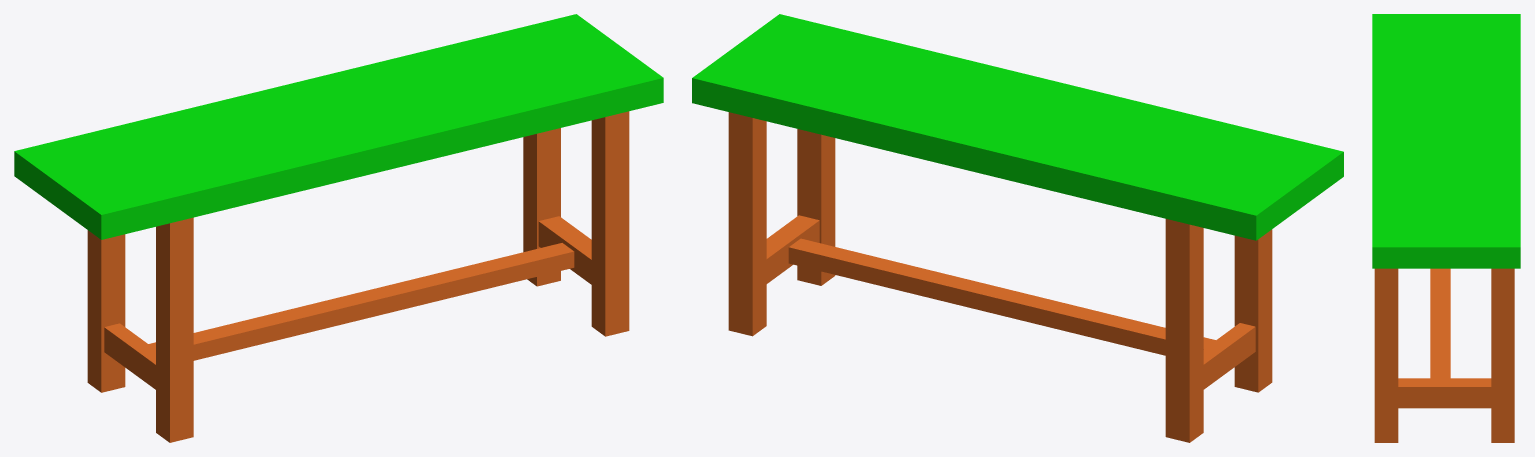
File: meja kantin.fbx
3 views of the same model, side by side, from view 1: azimuth 30°, elevation 25°; view 2: azimuth 150°, elevation 25°; view 3: azimuth 270°, elevation 25° (orthographic). The views are drawn at different scales.
Visible parts, largest first — view 1: Cube.004, Cube.007, Cube, Cube.001, Cube.003, Cube.002, Cube.006, Cube.005; view 2: Cube.004, Cube.007, Cube.003, Cube.002, Cube.001, Cube, Cube.006, Cube.005; view 3: Cube.004, Cube, Cube.002, Cube.005, Cube.007.
Boxes of the visible parts, box(x1,y1,x2,y2) form: Cube.004: box(14, 14, 663, 239); Cube.007: box(148, 243, 574, 360); Cube: box(591, 111, 629, 336); Cube.001: box(156, 217, 193, 442); Cube.003: box(87, 230, 125, 392); Cube.002: box(523, 128, 560, 286); Cube.006: box(104, 323, 155, 389); Cube.005: box(538, 216, 591, 284); Cube.004: box(692, 14, 1343, 240); Cube.007: box(788, 238, 1215, 355); Cube.003: box(1165, 219, 1203, 442); Cube.002: box(728, 112, 766, 336); Cube.001: box(1234, 229, 1272, 392); Cube: box(797, 129, 835, 285); Cube.006: box(1203, 323, 1255, 389); Cube.005: box(766, 215, 819, 283); Cube.004: box(1372, 14, 1520, 268); Cube: box(1374, 268, 1398, 442); Cube.002: box(1491, 268, 1514, 442); Cube.005: box(1398, 378, 1491, 408); Cube.007: box(1430, 268, 1450, 378).
Size of the model in its own units: 4712 by 1971 by 1266.
